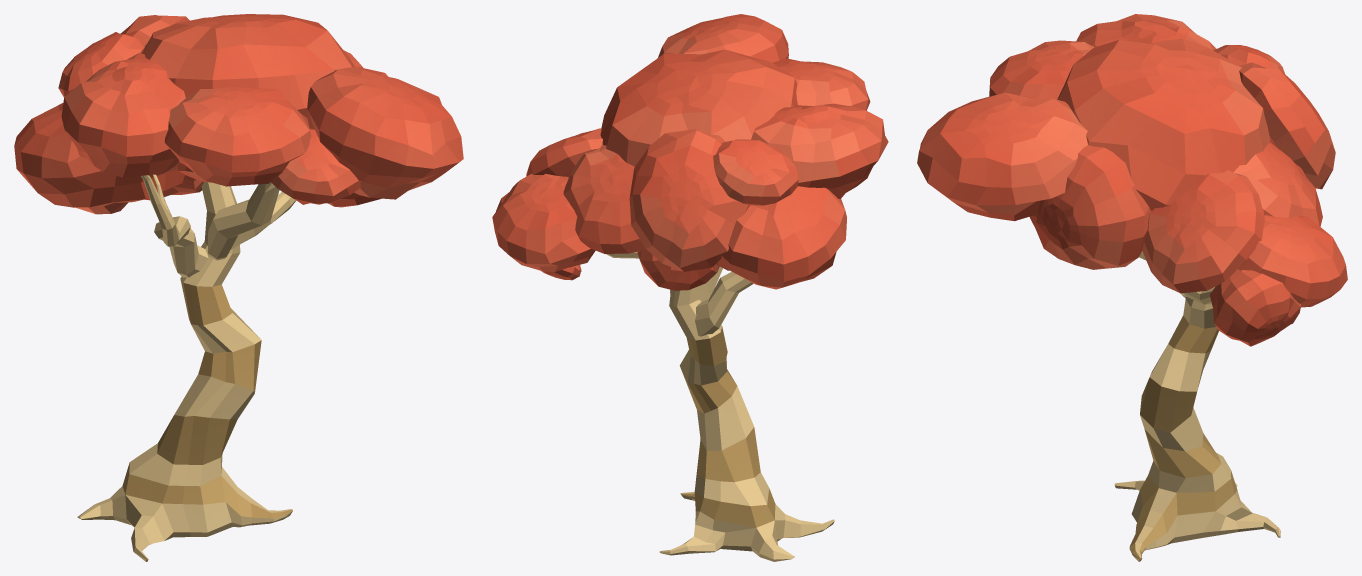
The model's file is tree_3_a.glb.
3 renders of one model, left to right at view 1: azimuth 30°, elevation 25°; view 2: azimuth 150°, elevation 25°; view 3: azimuth 270°, elevation 25°, orthographic. The views are drawn at different scales.
Parts seen in each view (by area): view 1: crown_3_a, trunk_3_a; view 2: crown_3_a, trunk_3_a; view 3: crown_3_a, trunk_3_a.
Part boxes in pixels (box(x1,y1,x2,y2)): crown_3_a: box(14, 14, 463, 214); trunk_3_a: box(77, 174, 296, 561); crown_3_a: box(492, 14, 888, 290); trunk_3_a: box(606, 252, 834, 561); crown_3_a: box(917, 14, 1347, 346); trunk_3_a: box(1114, 251, 1280, 561).
Size of the model in its own units: 4.06 by 5.28 by 4.24.
1 material, 1 textured.
